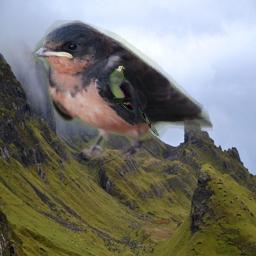Cuckoo: (107, 65, 163, 137)
Swallow: (31, 20, 213, 160)
